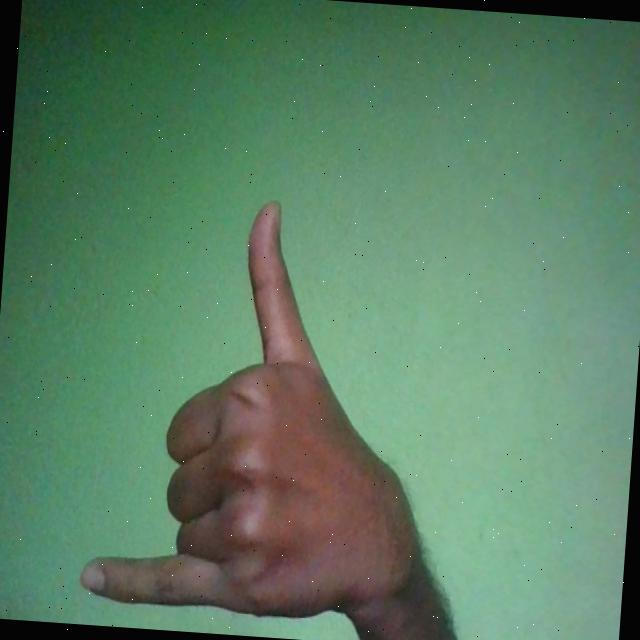Call Me: (78, 186, 452, 629)
